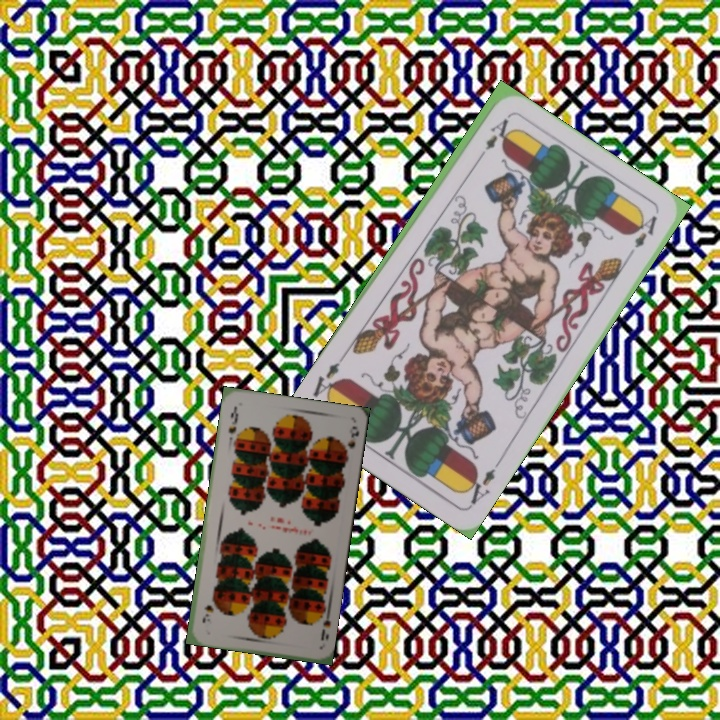EA: (472, 114, 511, 165), (459, 464, 498, 509)
S9: (314, 607, 334, 644), (224, 403, 241, 436)
